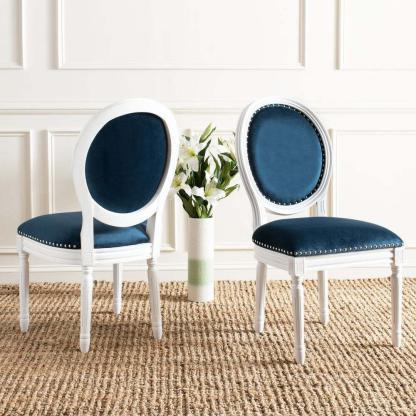chair: (234, 79, 407, 373), (6, 93, 188, 349)
